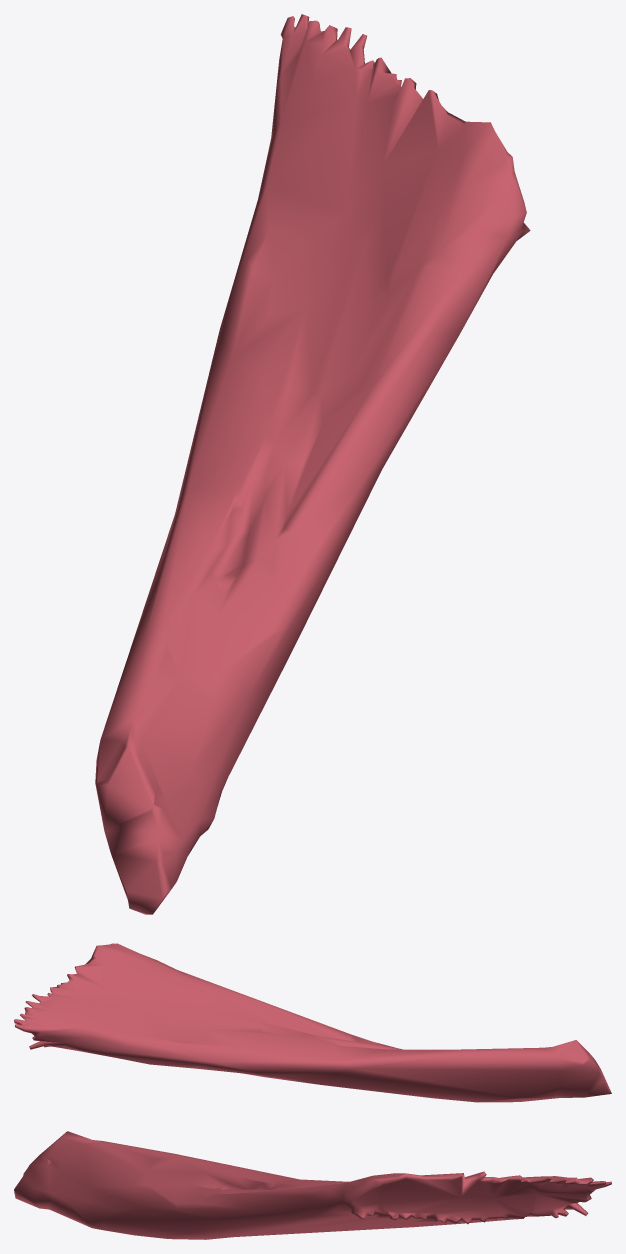
The picture shows the model from 3 angles, top to bottom: view 1: azimuth 30°, elevation 25°; view 2: azimuth 150°, elevation 25°; view 3: azimuth 270°, elevation 25°; orthographic projection. The views are drawn at different scales.
Parts seen in each view (by area): view 1: 左侧小收肌; view 2: 左侧小收肌; view 3: 左侧小收肌.
Boxes of the visible parts, bbox=[...] form: 左侧小收肌: bbox=[95, 14, 530, 914]; 左侧小收肌: bbox=[14, 943, 611, 1102]; 左侧小收肌: bbox=[14, 1131, 611, 1239].
Bounding box in the file's own units: 0.118 × 0.0609 × 0.1538.
